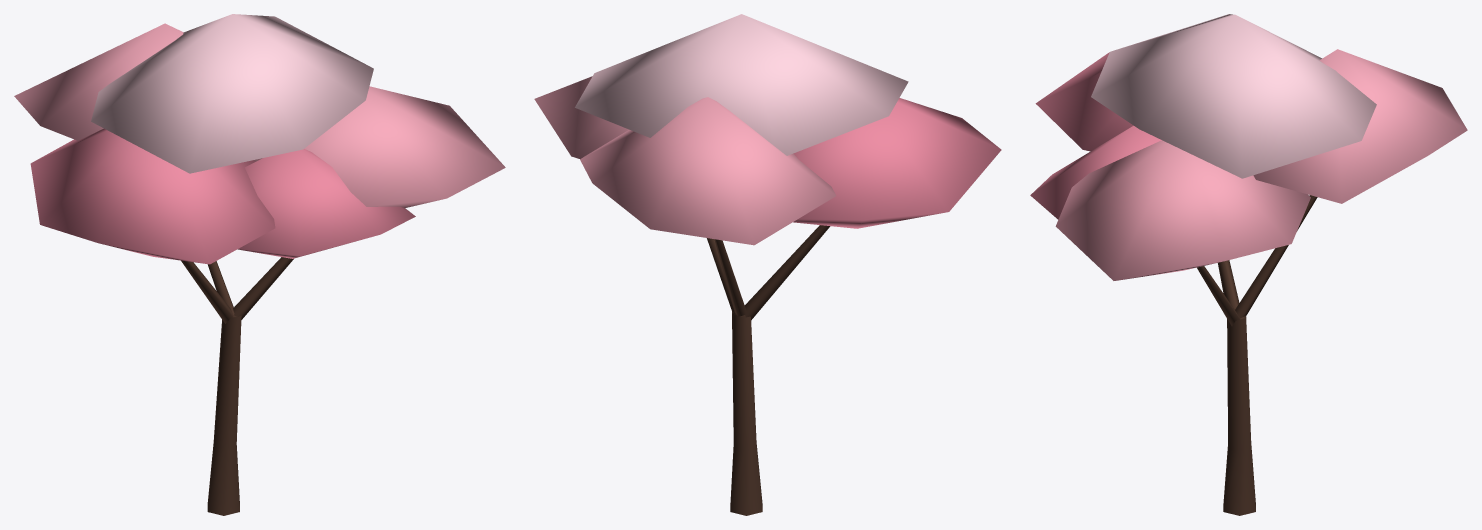
The model's file is mai_anh_dao.glb.
The picture shows the model from 3 angles, left to right: view 1: azimuth 30°, elevation 25°; view 2: azimuth 150°, elevation 25°; view 3: azimuth 270°, elevation 25°; orthographic projection.
Visible parts, largest first — view 1: blossom_center, blossom_west, blossom_east, blossom_south, blossom_north, trunk, bough_1, bough_2; view 2: blossom_center, blossom_north, blossom_west, trunk, blossom_east, bough_2, bough_3; view 3: blossom_center, blossom_east, blossom_north, trunk, blossom_west, blossom_south, bough_3, bough_1, bough_2.
Boxes of the visible parts, x1,y1,x2,y2 form: blossom_center: (91, 14, 373, 173); blossom_west: (30, 128, 275, 264); blossom_east: (253, 86, 505, 207); blossom_south: (237, 149, 415, 258); blossom_north: (14, 23, 183, 140); trunk: (207, 315, 241, 515); bough_1: (233, 257, 293, 319); bough_2: (181, 260, 233, 323); blossom_center: (575, 14, 908, 155); blossom_north: (580, 97, 836, 245); blossom_west: (793, 98, 1001, 228); trunk: (730, 312, 762, 515); blossom_east: (534, 76, 628, 158); bough_2: (744, 225, 830, 320); bough_3: (714, 239, 746, 316); blossom_center: (1091, 14, 1376, 178); blossom_east: (1055, 140, 1310, 280); blossom_north: (1253, 49, 1467, 203); trunk: (1223, 316, 1255, 515); blossom_west: (1035, 52, 1133, 151); blossom_south: (1030, 125, 1161, 219); bough_3: (1235, 195, 1317, 318); bough_1: (1197, 266, 1239, 326); bough_2: (1218, 260, 1239, 309).
Bounding box in the file's own units: 6.13 × 7 × 5.59.
